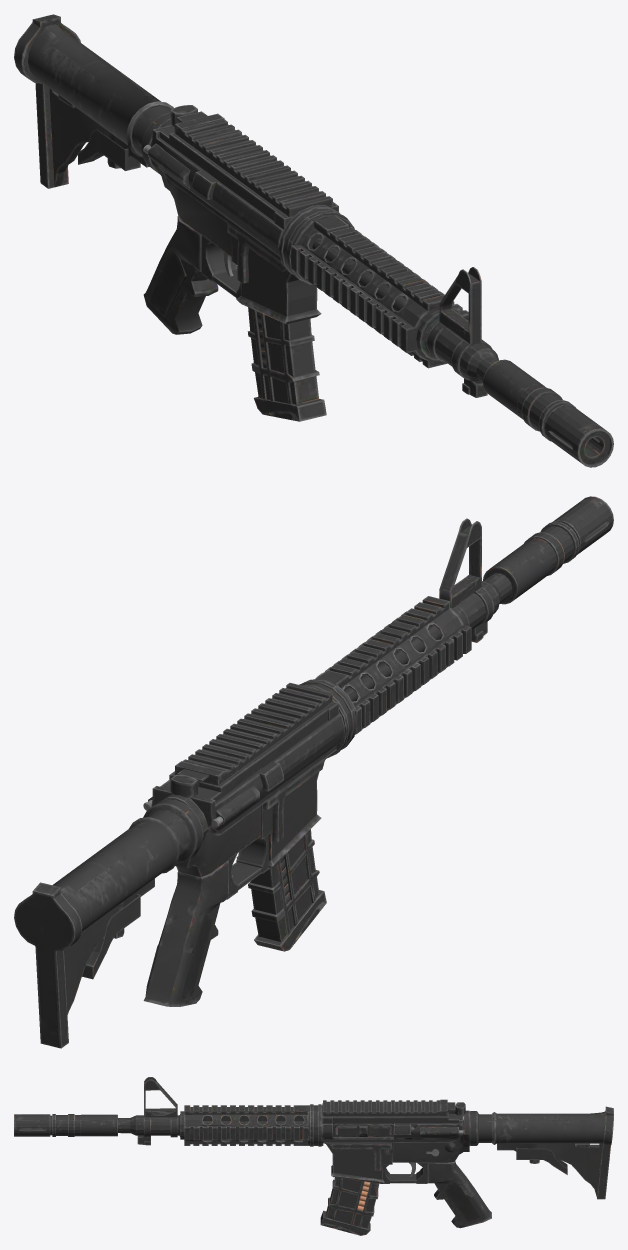
File: m4-gun.glb
3 renders of one model, top to bottom at view 1: azimuth 30°, elevation 25°; view 2: azimuth 150°, elevation 25°; view 3: azimuth 270°, elevation 25°, orthographic. The views are drawn at different scales.
Visible parts, largest first — view 1: Handle_defaultPolygonShader_0; view 2: Handle_defaultPolygonShader_0; view 3: Handle_defaultPolygonShader_0.
Boxes of the visible parts, x1=… form: Handle_defaultPolygonShader_0: x1=14, y1=14, x2=613, y2=467; Handle_defaultPolygonShader_0: x1=14, y1=496, x2=613, y2=1048; Handle_defaultPolygonShader_0: x1=14, y1=1077, x2=613, y2=1235.
Size of the model in its own units: 0.0147 by 0.0521 by 0.1844.
Materials: 1 (1 with a texture image).
